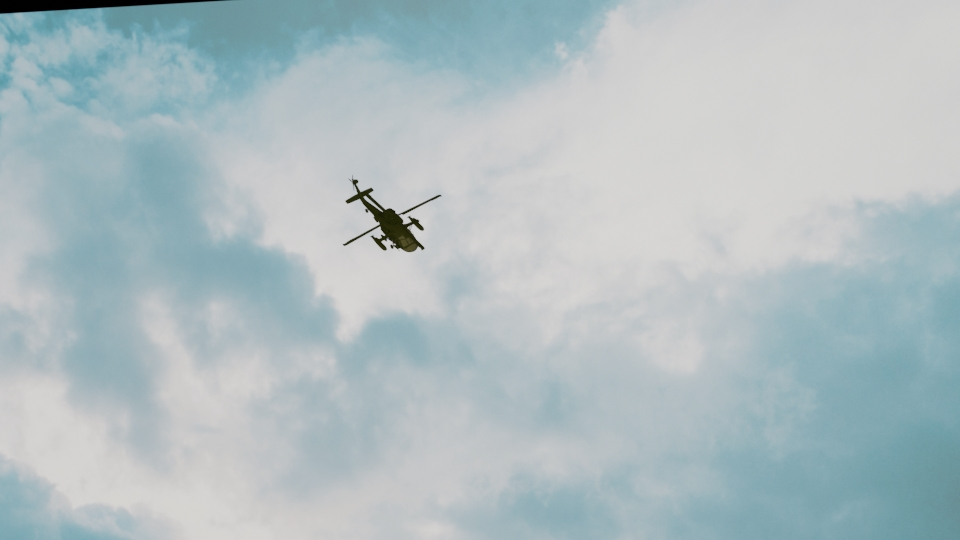heli: (343, 176, 439, 252)
